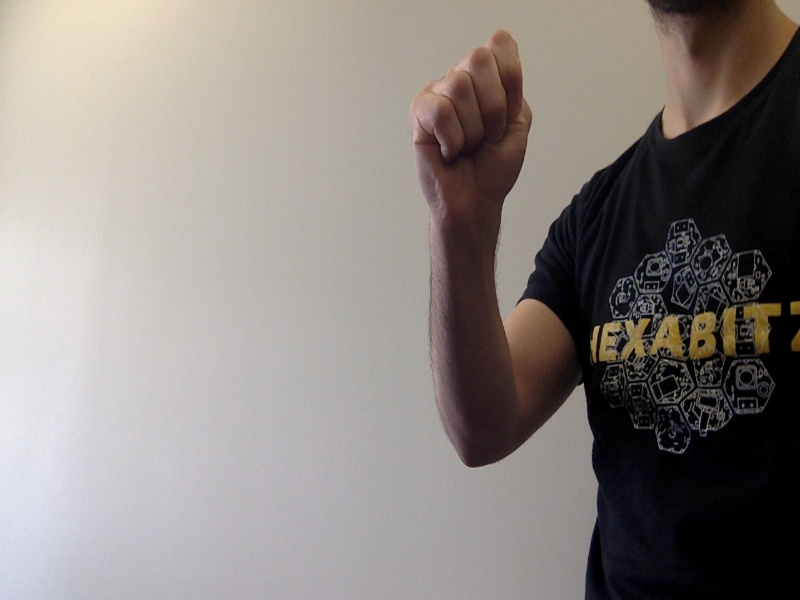0-hand: (412, 32, 533, 222)
